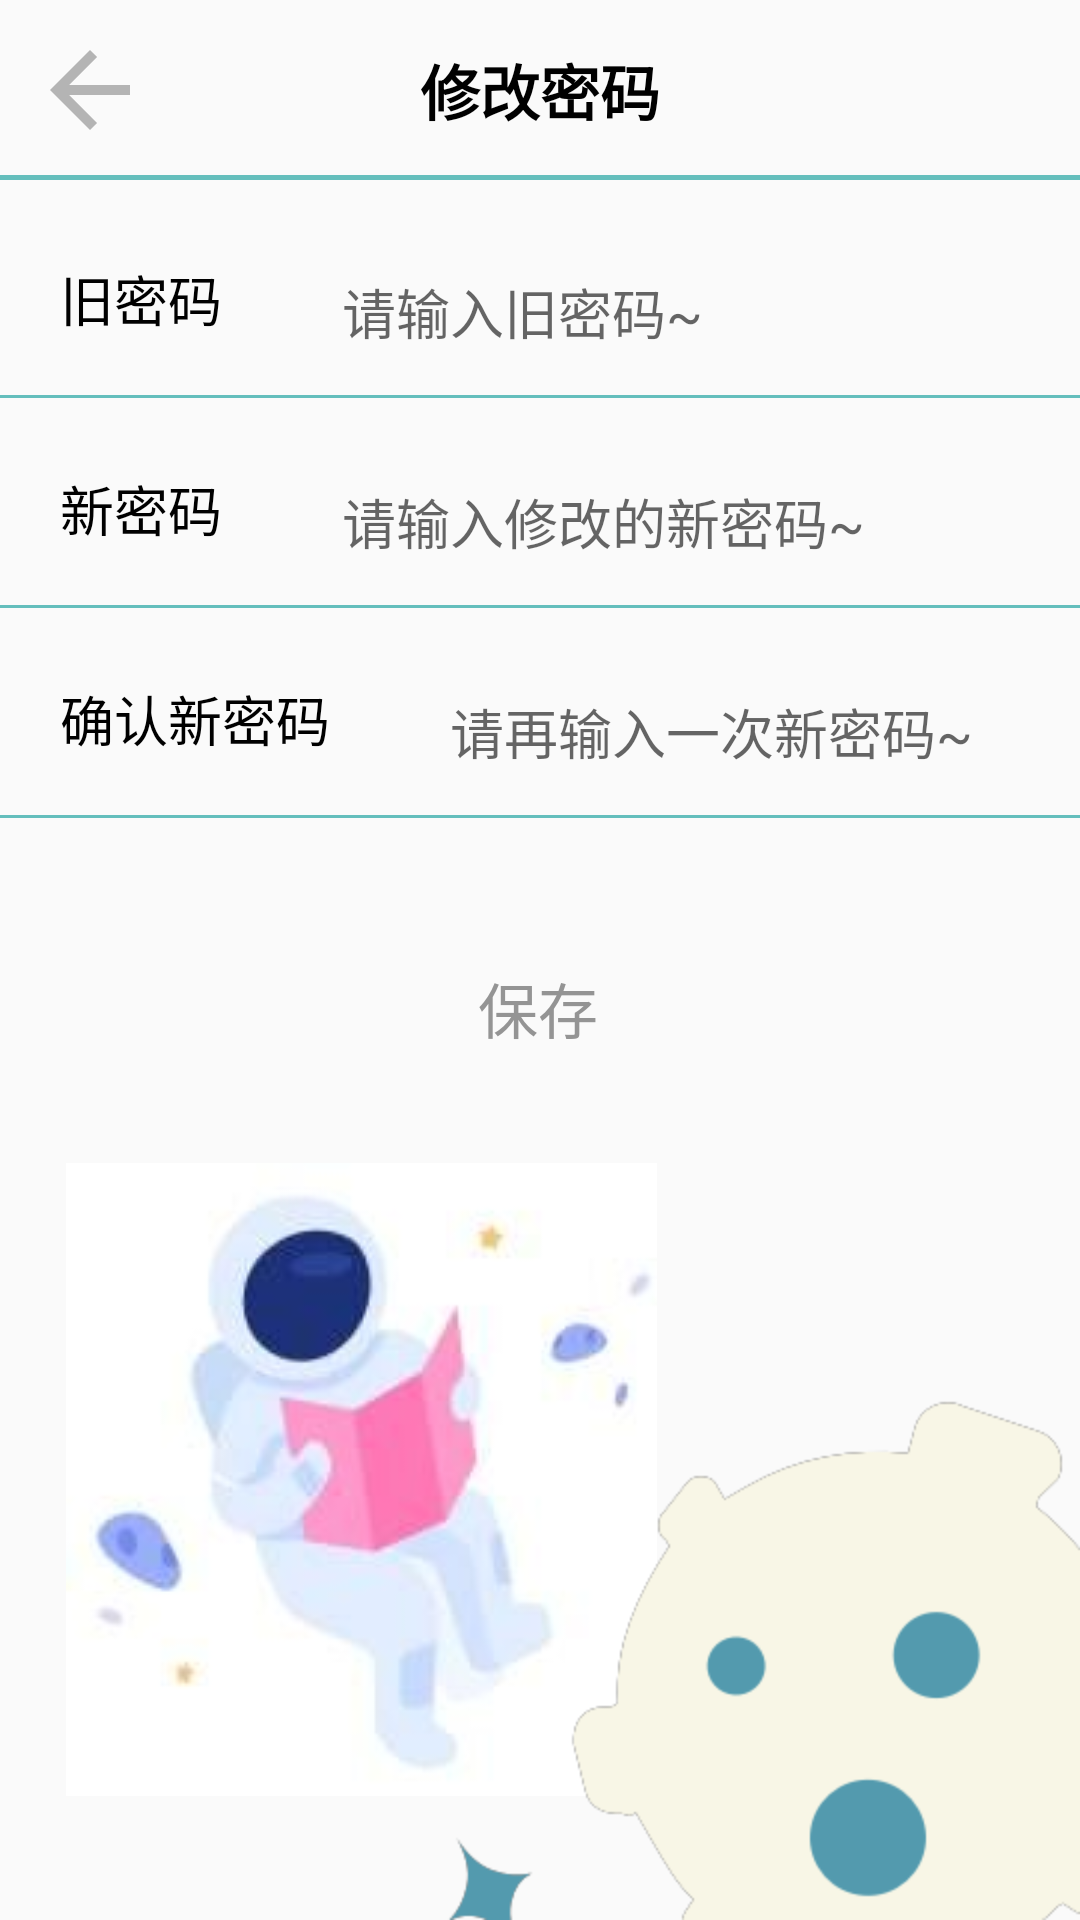

Where icons sit on this 1080 × 1920 app screen, as (x1, y1, x2, y2):
arrow back: (50, 50, 130, 130)
